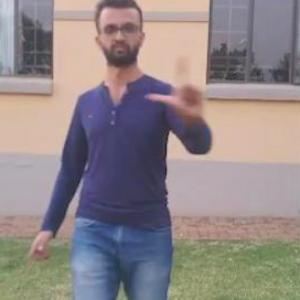land_hand: (146, 51, 203, 117)
